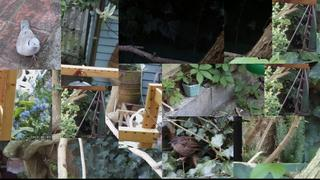collared dove: (16, 20, 41, 63)
dunnock: (167, 136, 214, 162)
